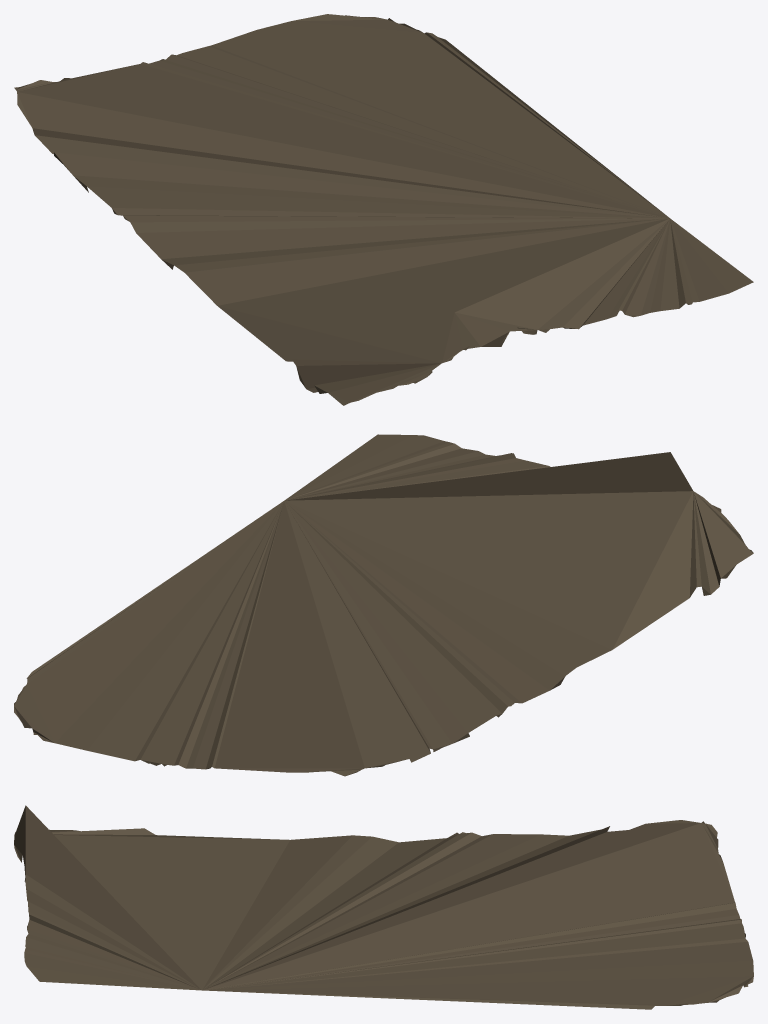
File: log-stack.lod2.glb
3 views of the same model, one above another, from view 1: azimuth 30°, elevation 25°; view 2: azimuth 150°, elevation 25°; view 3: azimuth 270°, elevation 25° (orthographic). The views are drawn at different scales.
Parts seen in each view (by area): view 1: troncos_troncos_0; view 2: troncos_troncos_0; view 3: troncos_troncos_0.
Boxes of the visible parts, <box> form: troncos_troncos_0: <box>14,14,753,405</box>; troncos_troncos_0: <box>14,434,753,776</box>; troncos_troncos_0: <box>14,805,753,1009</box>.
Size of the model in its own units: 4.83 by 0.9642 by 7.99.
